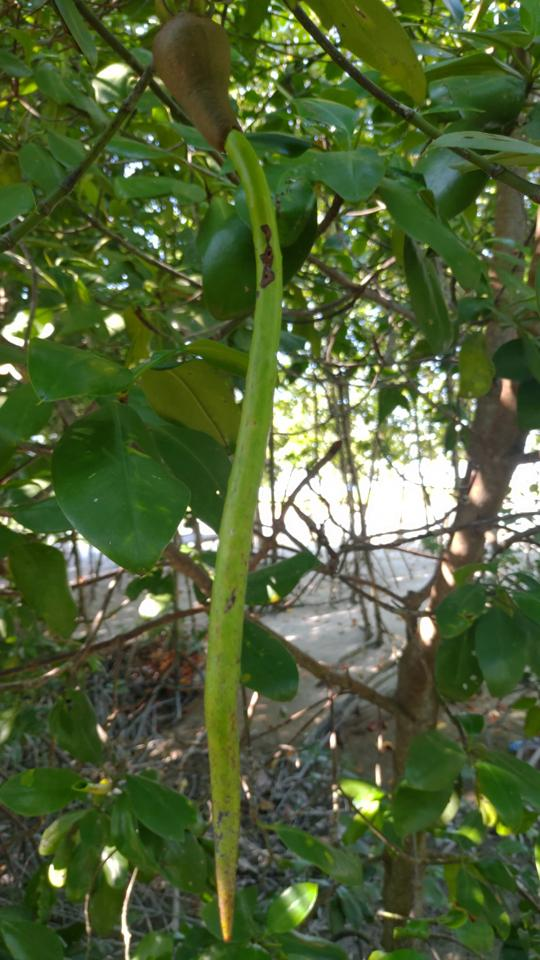mentah: (135, 4, 297, 949)
